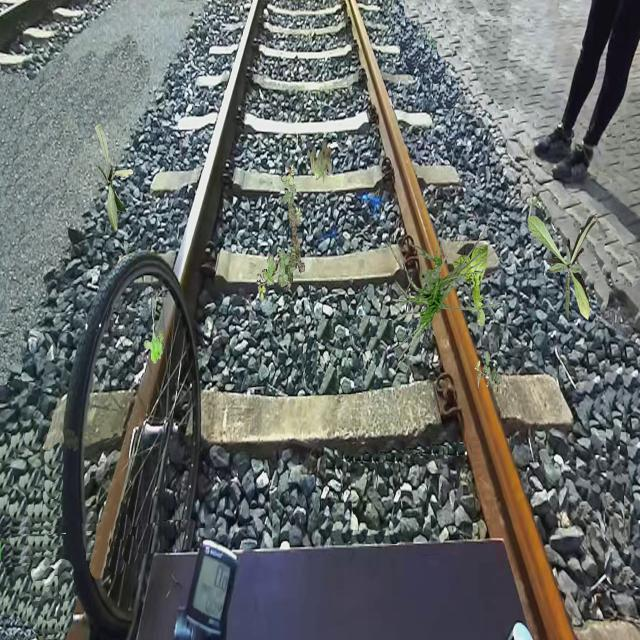Plant: (384, 209, 502, 372), (527, 214, 598, 322), (257, 163, 306, 301), (94, 123, 134, 233), (453, 243, 488, 326), (474, 351, 502, 392), (307, 141, 333, 184), (144, 331, 164, 364)
